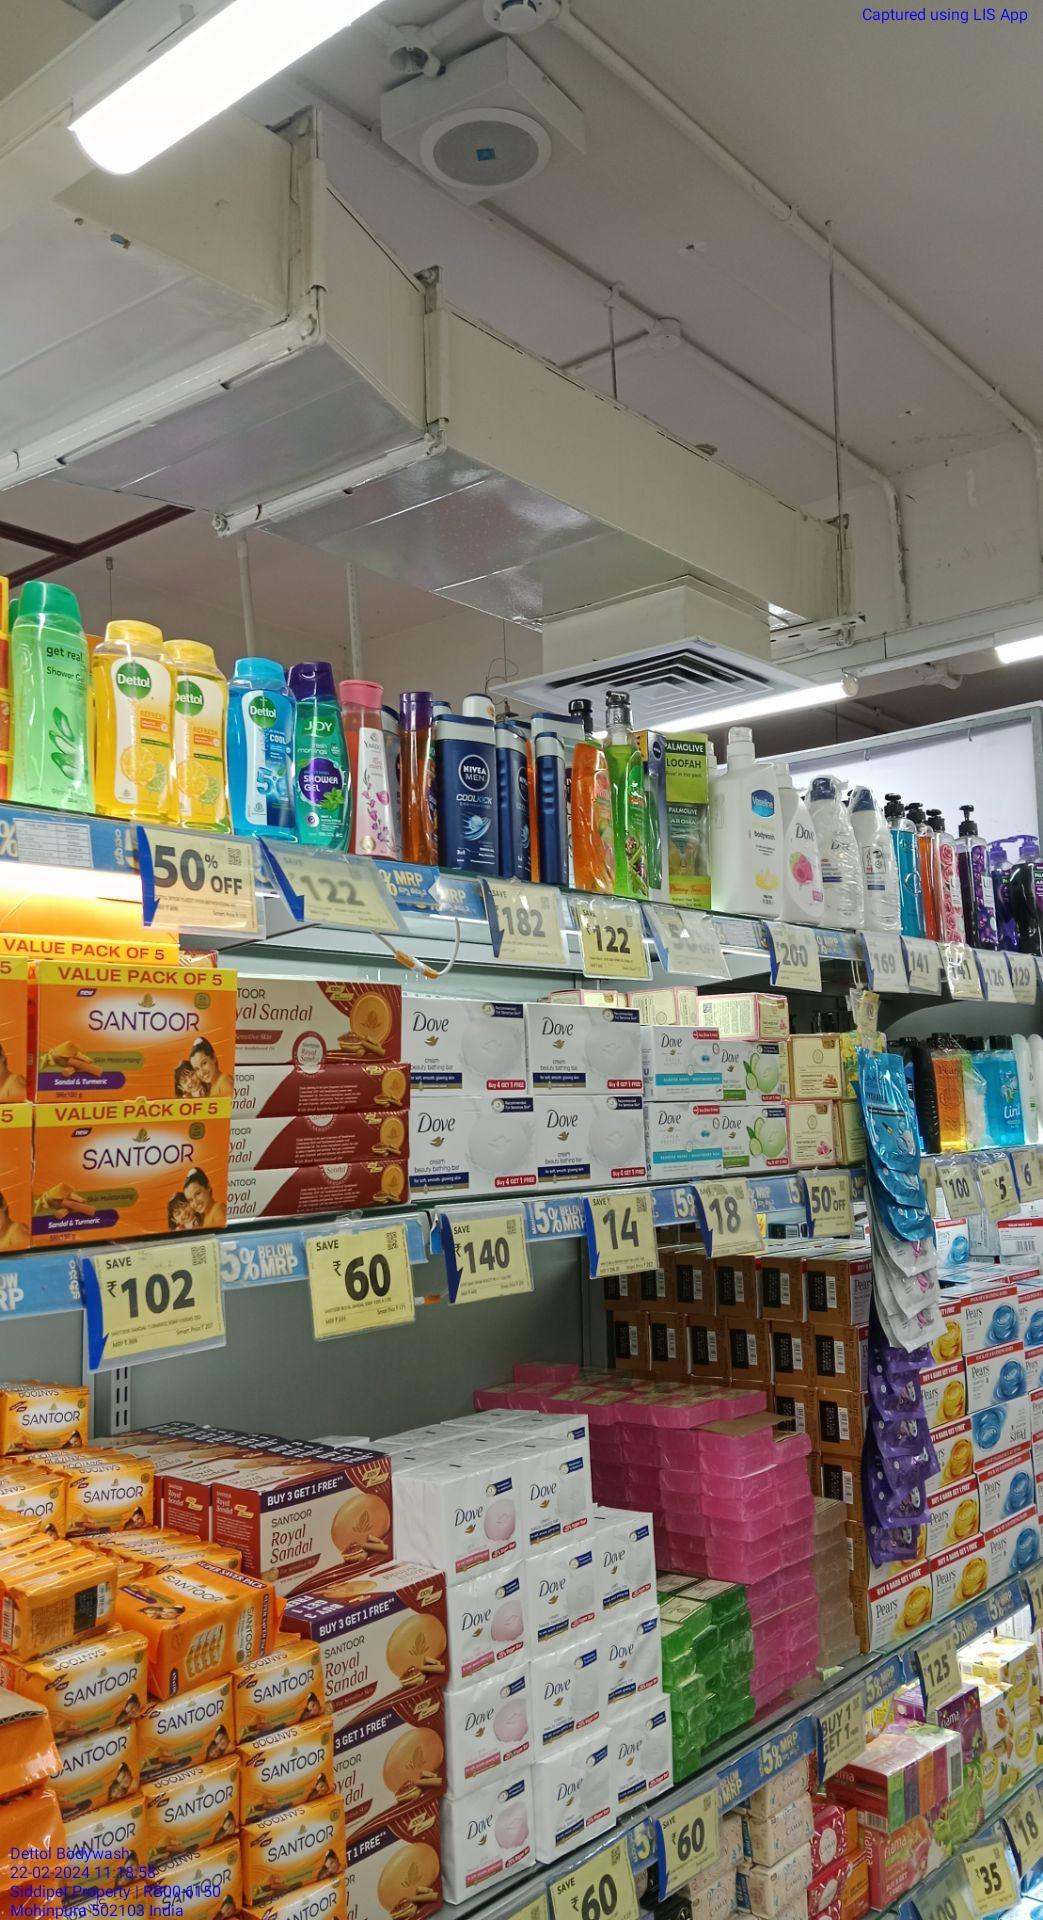Dettol_Bodywash_Cool: (234, 650, 299, 841)
Dettol_Bodywash_Refresh: (103, 620, 182, 821), (181, 640, 232, 833)
Joy_Shower_Gel_Mint_and_Eucalyptus_250ML: (303, 656, 353, 850)
